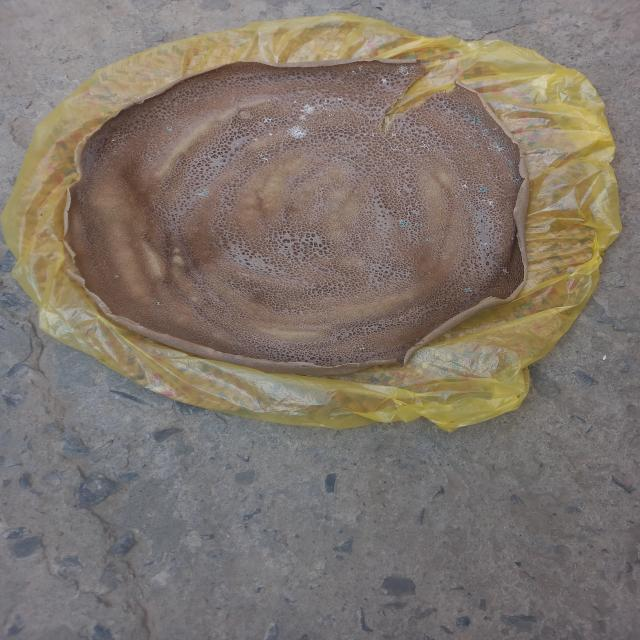injera_mold: (321, 92, 344, 118), (486, 137, 515, 155), (394, 62, 421, 77), (485, 265, 513, 278), (284, 125, 312, 138), (296, 104, 318, 120), (416, 140, 438, 154), (104, 131, 129, 142), (254, 151, 275, 164), (482, 199, 496, 217), (480, 127, 500, 136), (386, 143, 408, 151), (351, 65, 366, 75), (197, 189, 210, 196), (380, 77, 390, 85), (400, 219, 409, 227), (414, 222, 426, 228), (262, 118, 274, 124), (479, 185, 489, 192), (464, 287, 474, 293), (506, 161, 514, 168), (147, 157, 154, 163), (166, 125, 173, 131), (462, 183, 468, 189), (470, 143, 479, 147), (358, 346, 366, 350), (426, 238, 434, 242), (473, 120, 481, 124), (113, 274, 120, 278), (467, 206, 473, 210), (268, 133, 274, 137), (254, 137, 258, 142), (514, 178, 520, 181), (156, 301, 160, 305), (443, 100, 447, 104), (454, 195, 459, 198), (464, 115, 469, 118), (293, 100, 297, 103)
